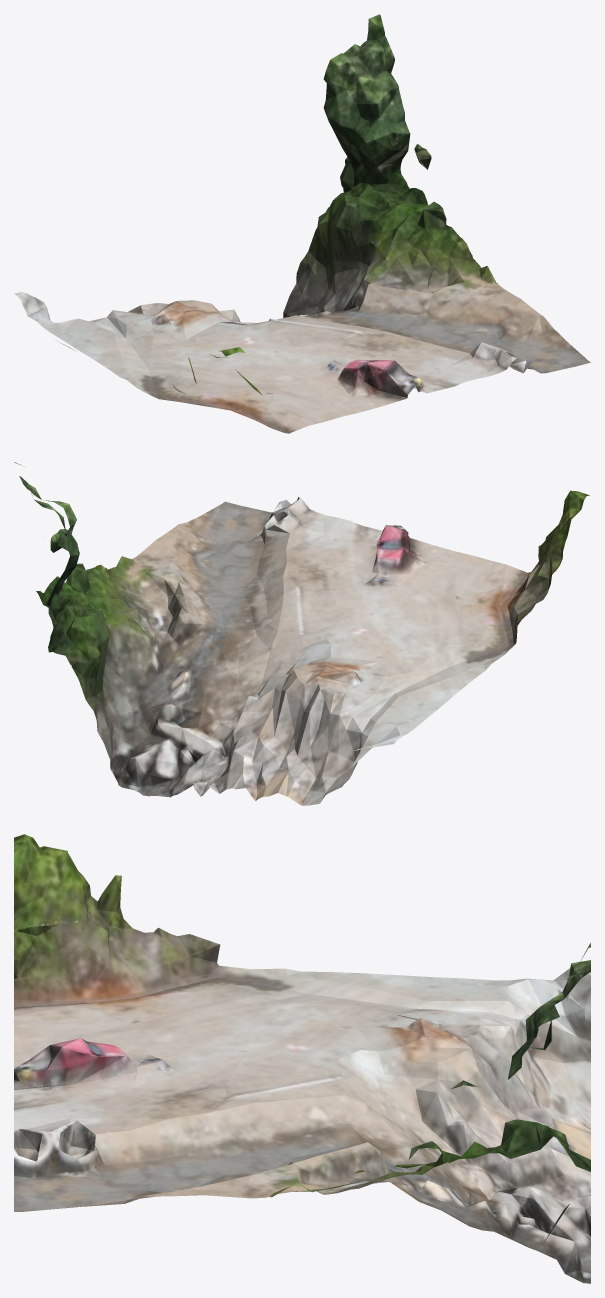
The picture shows the model from 3 angles, top to bottom: view 1: azimuth 30°, elevation 25°; view 2: azimuth 150°, elevation 25°; view 3: azimuth 270°, elevation 25°; orthographic projection. The views are drawn at different scales.
Bounding box in the file's own units: 26.11 × 20.56 × 26.11.
3 materials, 3 textured.
